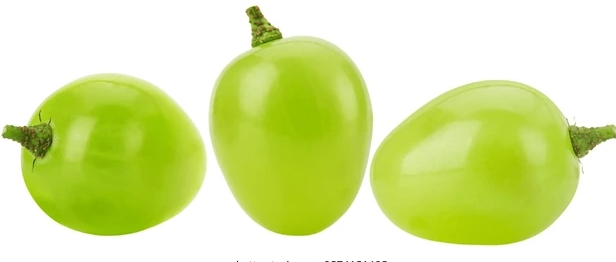grapes: (7, 61, 229, 248)
